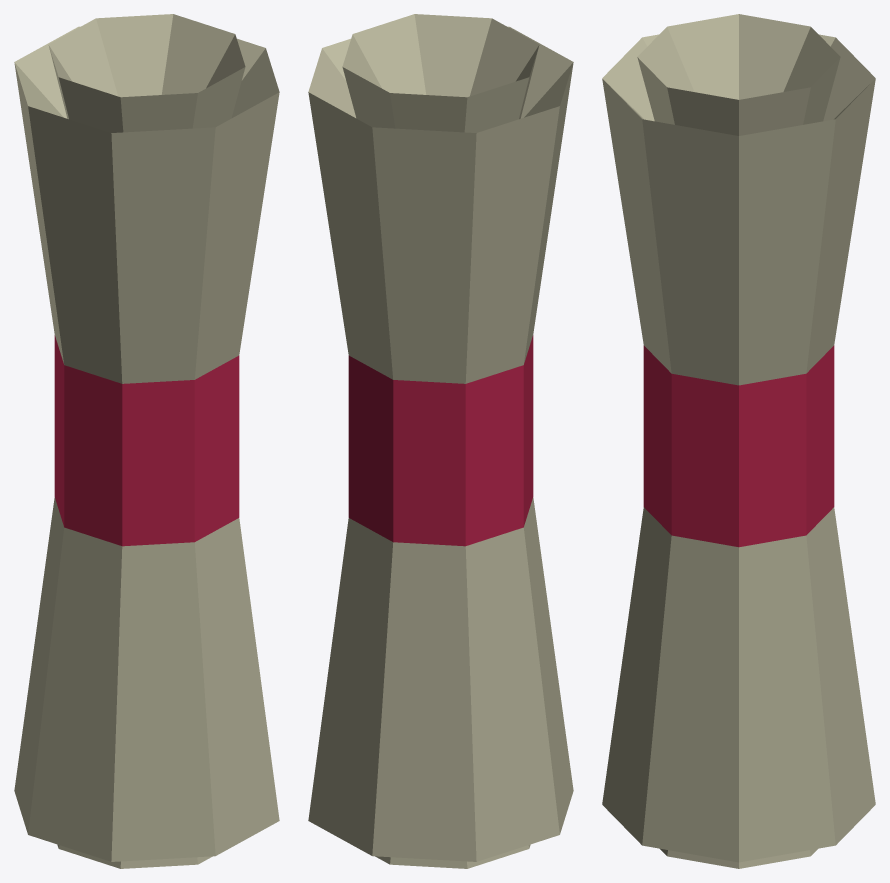
The model's file is Paper.fbx.
3 views of the same model, side by side, from view 1: azimuth 30°, elevation 25°; view 2: azimuth 150°, elevation 25°; view 3: azimuth 270°, elevation 25° (orthographic).
Visible parts, largest first — view 1: Paper; view 2: Paper; view 3: Paper.
Part boxes in pixels (left/top/right/bottom): Paper: left=14, top=14, right=279, bottom=868; Paper: left=308, top=14, right=573, bottom=868; Paper: left=602, top=14, right=875, bottom=868.
Size of the model in its own units: 4.89 by 15.14 by 4.89.
